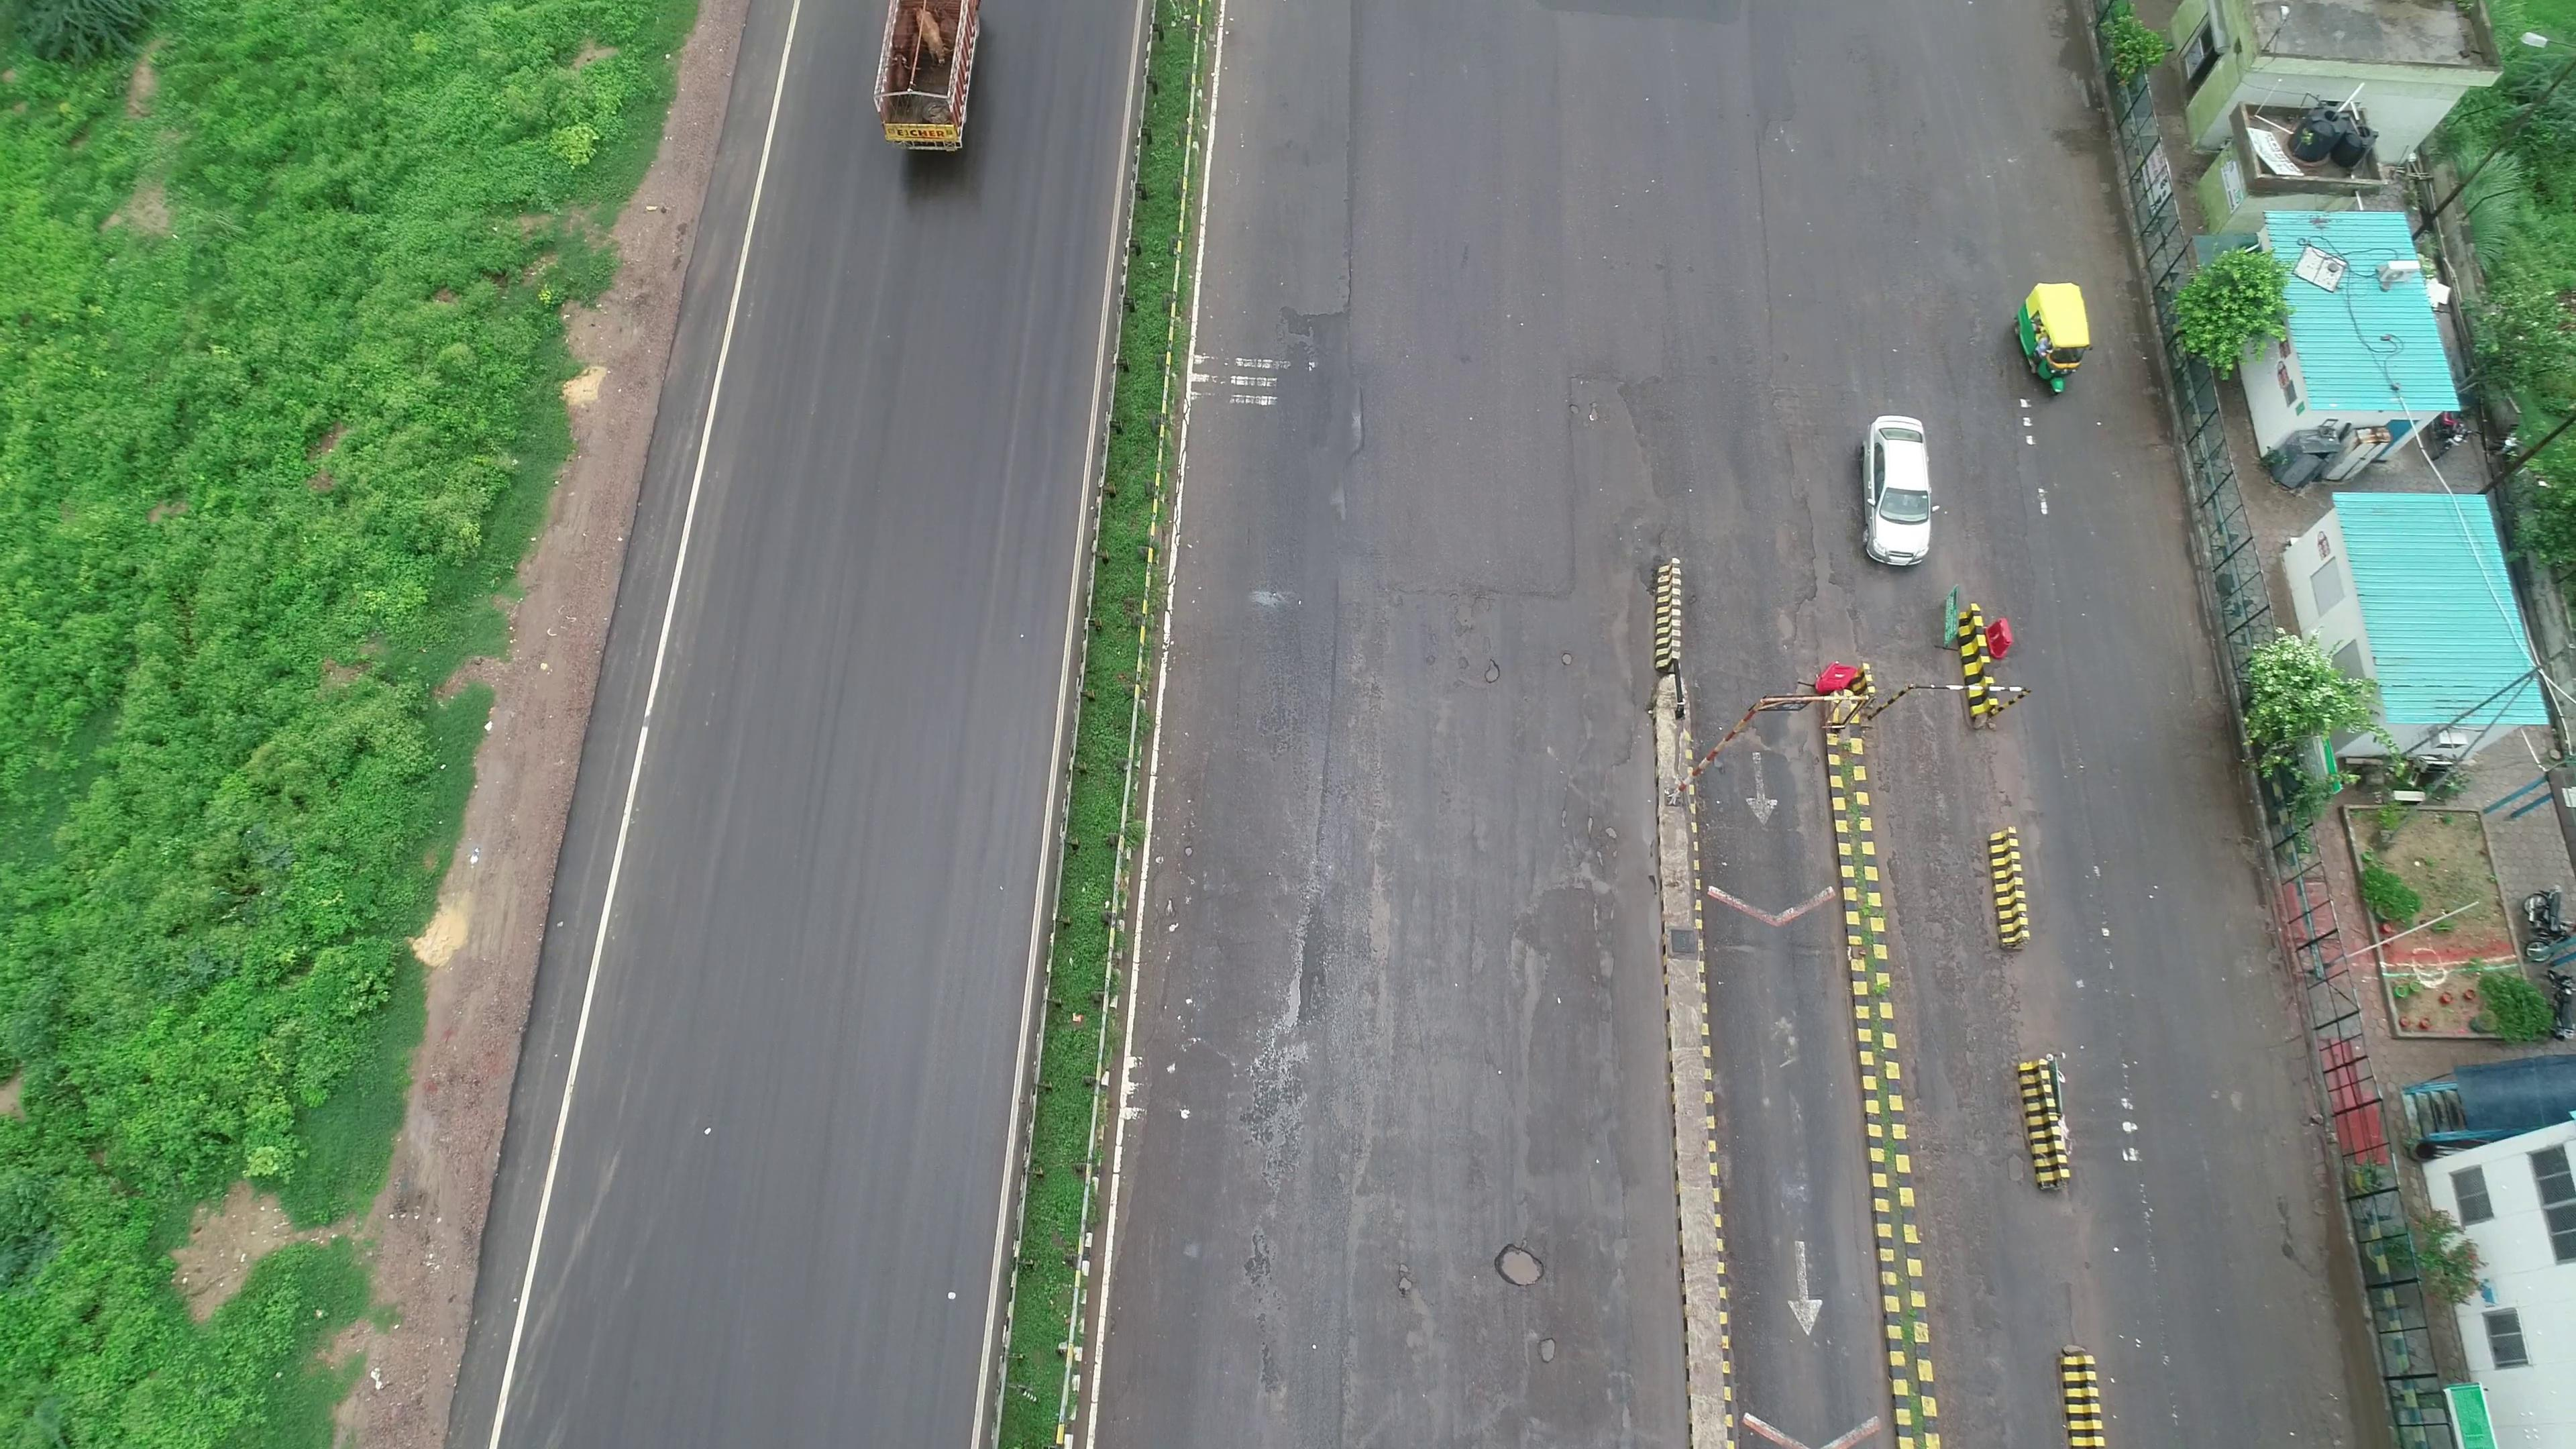Potholes: (1415, 575, 1615, 752), (1447, 1196, 1598, 1421), (1552, 352, 1635, 471)
